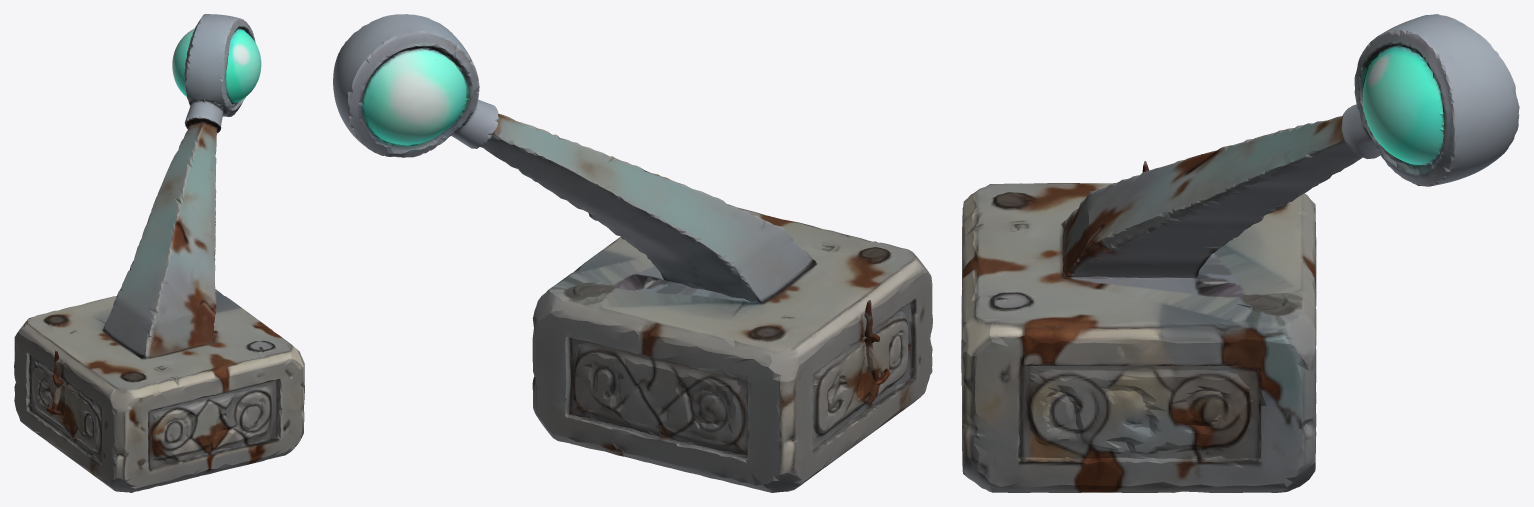
Rendered from rodin_Lab_Lever_raw.glb.
The picture shows the model from 3 angles, left to right: view 1: azimuth 30°, elevation 25°; view 2: azimuth 150°, elevation 25°; view 3: azimuth 270°, elevation 25°; orthographic projection. The views are drawn at different scales.
Parts seen in each view (by area): view 1: model; view 2: model; view 3: model.
Boxes of the visible parts, x1,y1,x2,y2 form: model: (14,14,304,492); model: (333,14,932,492); model: (961,14,1519,492).
Bounding box in the file's own units: 1.9 × 1.88 × 1.85.
1 material, 1 textured.
